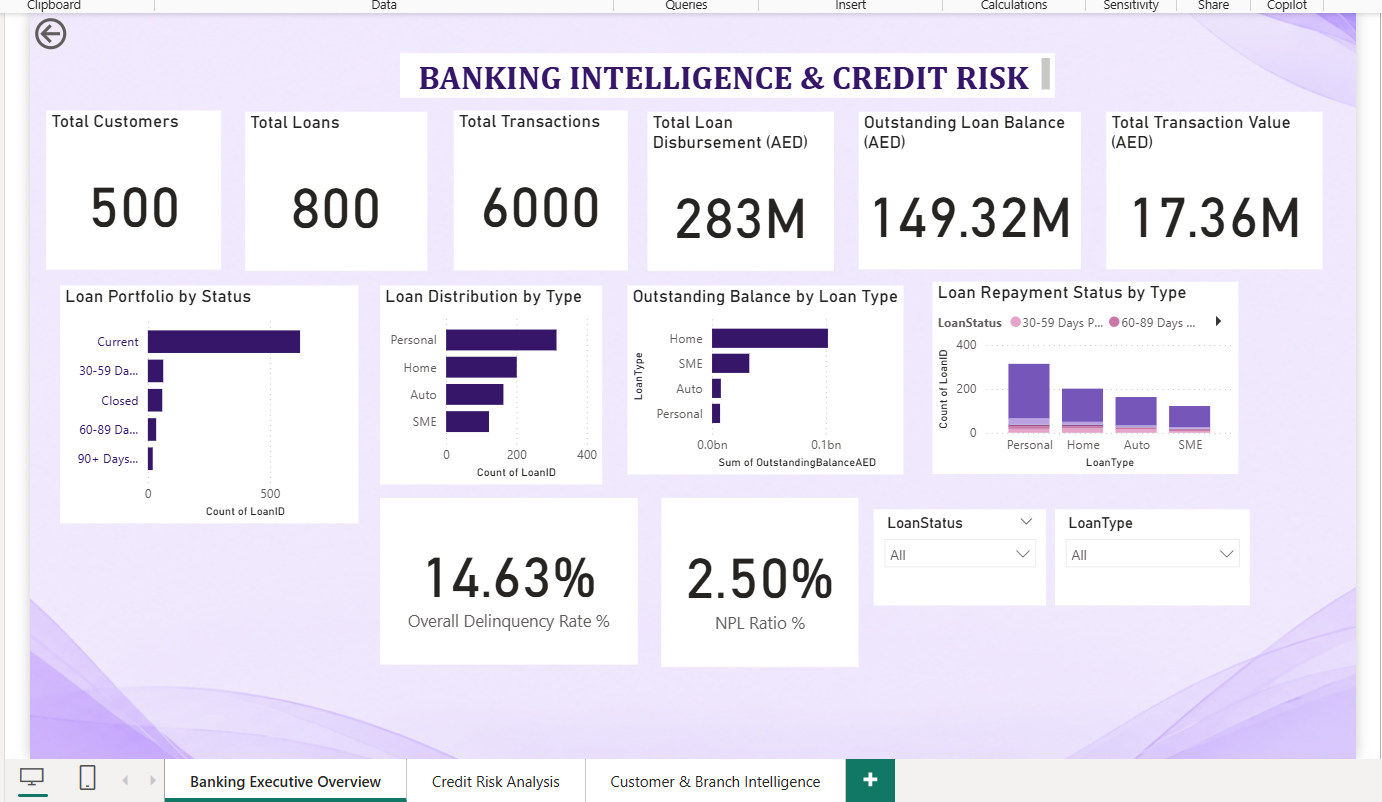

This screenshot's page, from the dashboard's own definition file:
{"tool":"powerbi","page":{"name":"Banking Executive Overview","canvas":[1280,720],"ordinal":0},"visuals":[{"type":"card","title":"Total Customers","fields":{"Values":["Count(Customers.CustomerID)"]},"box":[15.7,94.1,168.9,153.2],"z":0},{"type":"card","title":"Total Loans","fields":{"Values":["Count(Loans.LoanID)"]},"box":[207.5,95.3,176.1,153.2],"z":1000},{"type":"card","title":"Total Transactions","fields":{"Values":["Count(Transactions.TransactionID)"]},"box":[409,94.1,167.7,154.4],"z":2000},{"type":"card","title":"Total Loan Disbursement (AED)","fields":{"Values":["Sum(Loans.OriginalPrincipalAED)"]},"box":[596,95.3,179.8,153.2],"z":3000},{"type":"card","title":"Outstanding Loan Balance (AED)","fields":{"Values":["Sum(Loans.OutstandingBalanceAED)"]},"box":[799.9,95.3,214.7,152],"z":4000},{"type":"card","title":"Total Transaction Value (AED)","fields":{"Values":["Sum(Transactions.AmountAED)"]},"box":[1038.7,95.3,208.7,152],"z":5000},{"type":"clusteredBarChart","title":" Loan Portfolio by Status","fields":{"Category":["Loans.LoanStatus"],"Y":["CountNonNull(Loans.LoanID)"]},"box":[29,263,288.3,229.2],"z":6000},{"type":"clusteredBarChart","title":"Loan Distribution by Type","fields":{"Category":["Loans.LoanType"],"Y":["CountNonNull(Loans.LoanID)"]},"box":[337.8,263,214.7,191.8],"z":7000},{"type":"clusteredBarChart","title":"Outstanding Balance by Loan Type","fields":{"Y":["Sum(Loans.OutstandingBalanceAED)"],"Category":["Loans.LoanType"]},"box":[576.7,263,266.6,182.2],"z":8000},{"type":"columnChart","title":"Loan Repayment Status by Type","fields":{"Category":["Loans.LoanType"],"Y":["CountNonNull(Loans.LoanID)"],"Series":["Loans.LoanStatus"]},"box":[871.1,259.4,295.6,185.8],"z":9000},{"type":"slicer","fields":{"Values":["Loans.LoanType"]},"box":[989.3,479,188.2,92.9],"z":10000},{"type":"slicer","fields":{"Values":["Loans.LoanStatus"]},"box":[814.3,479,166.5,92.9],"z":11000},{"type":"textbox","box":[357.1,38.6,632.2,43.4],"z":12000},{"type":"card","fields":{"Values":["Branches.Overall Delinquency Rate %"]},"box":[337.8,468.1,248.5,160.5],"z":13000},{"type":"card","fields":{"Values":["Branches.NPL Ratio %"]},"box":[609.3,468.1,190.6,162.9],"z":14000},{"type":"actionButton","box":[0,0,100,40],"z":15000}]}

Visuals, with their boxes on the page's 1280x720 design canvas (x1, y1, x2, y2). These are canvas units, not pixel positions in the 1382x802 screenshot, which may show the page scaled, cropped or inside an application window:
"Total Customers" card: <region>16, 94, 185, 247</region>
"Total Loans" card: <region>208, 95, 384, 248</region>
"Total Transactions" card: <region>409, 94, 577, 248</region>
"Total Loan Disbursement (AED)" card: <region>596, 95, 776, 248</region>
"Outstanding Loan Balance (AED)" card: <region>800, 95, 1015, 247</region>
"Total Transaction Value (AED)" card: <region>1039, 95, 1247, 247</region>
" Loan Portfolio by Status" clusteredBarChart: <region>29, 263, 317, 492</region>
"Loan Distribution by Type" clusteredBarChart: <region>338, 263, 552, 455</region>
"Outstanding Balance by Loan Type" clusteredBarChart: <region>577, 263, 843, 445</region>
"Loan Repayment Status by Type" columnChart: <region>871, 259, 1167, 445</region>
slicer - Loans.LoanType: <region>989, 479, 1178, 572</region>
slicer - Loans.LoanStatus: <region>814, 479, 981, 572</region>
textbox: <region>357, 39, 989, 82</region>
card - Branches.Overall Delinquency Rate %: <region>338, 468, 586, 629</region>
card - Branches.NPL Ratio %: <region>609, 468, 800, 631</region>
actionButton: <region>0, 0, 100, 40</region>
